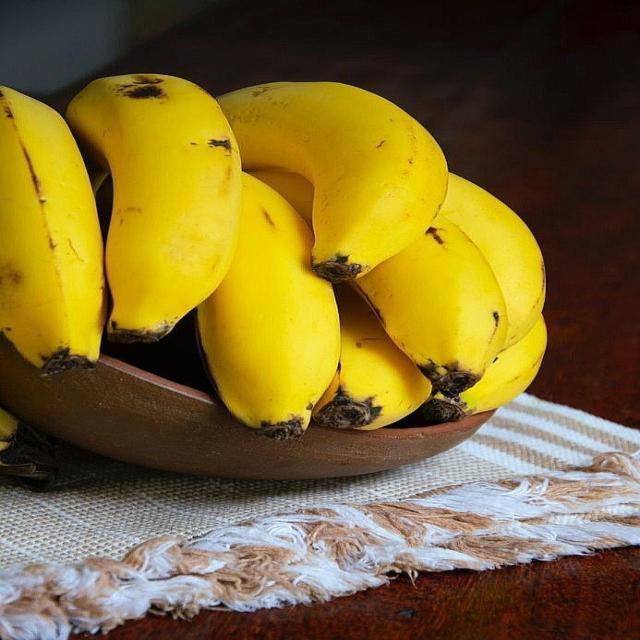unpeal banana: (67, 74, 241, 342), (218, 82, 447, 282), (198, 175, 339, 439), (0, 88, 105, 373), (354, 218, 507, 396), (436, 174, 544, 348), (438, 174, 544, 348), (314, 286, 431, 430), (423, 315, 546, 422), (250, 170, 313, 229), (0, 408, 19, 452)
